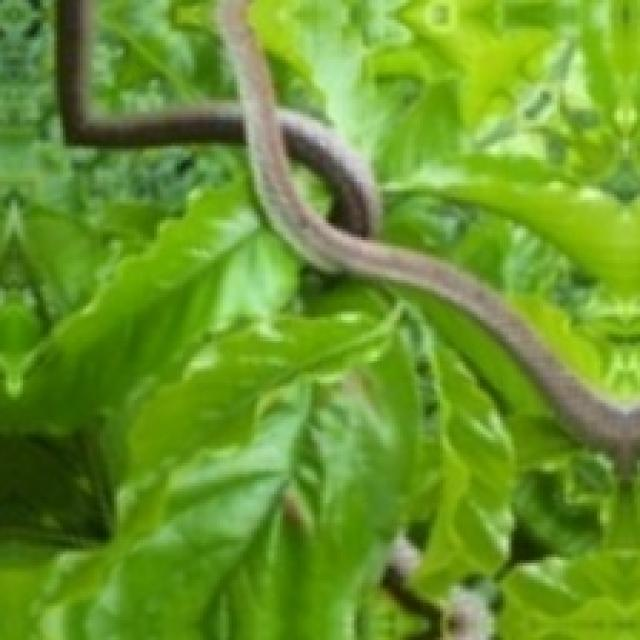paradise tree snake: (57, 0, 637, 457), (217, 0, 637, 460), (386, 180, 637, 286)
